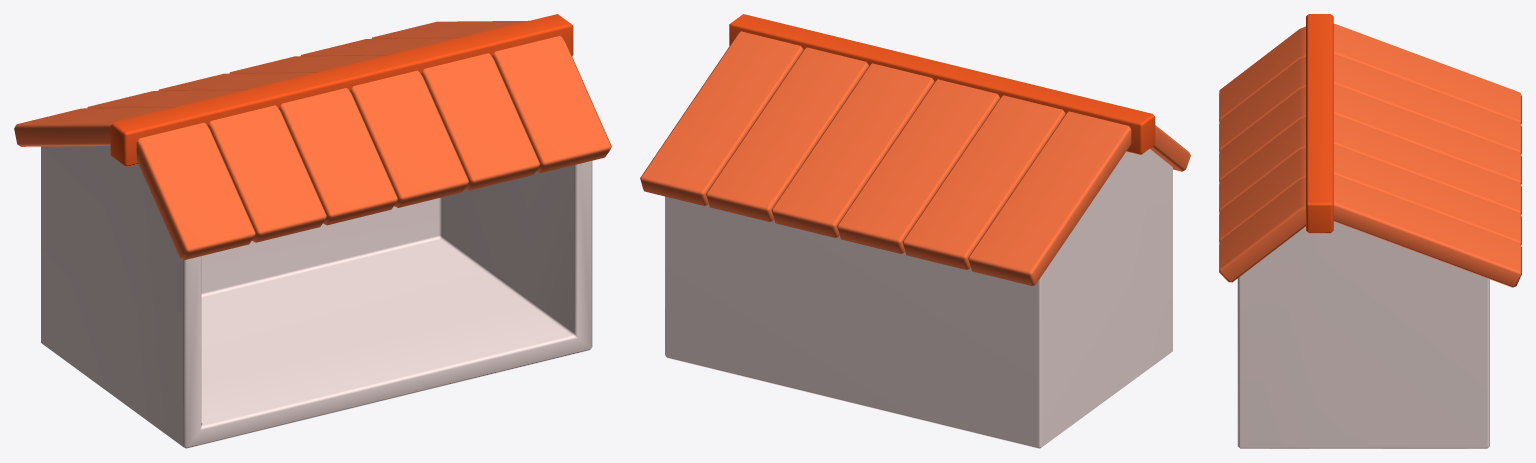
File: Farm_15_Sheep_House_1.glb
3 renders of one model, left to right at view 1: azimuth 30°, elevation 25°; view 2: azimuth 150°, elevation 25°; view 3: azimuth 270°, elevation 25°, orthographic. The views are drawn at different scales.
Visible parts, largest first — view 1: Farm_15_Sheep_House_1; view 2: Farm_15_Sheep_House_1; view 3: Farm_15_Sheep_House_1.
Boxes of the visible parts, box(x1,y1,x2,y2) form: Farm_15_Sheep_House_1: box(14, 14, 611, 448); Farm_15_Sheep_House_1: box(640, 14, 1190, 448); Farm_15_Sheep_House_1: box(1219, 14, 1521, 448).
Bounding box in the file's own units: 4.5 × 2.81 × 3.02.
Materials: 1 (1 with a texture image).
